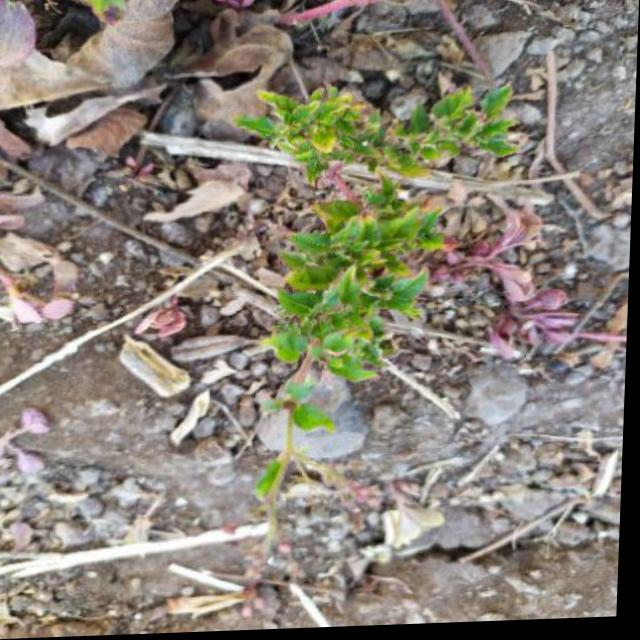weed: (217, 77, 530, 506)
